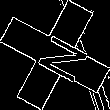N_NW: (23, 25, 87, 85)
